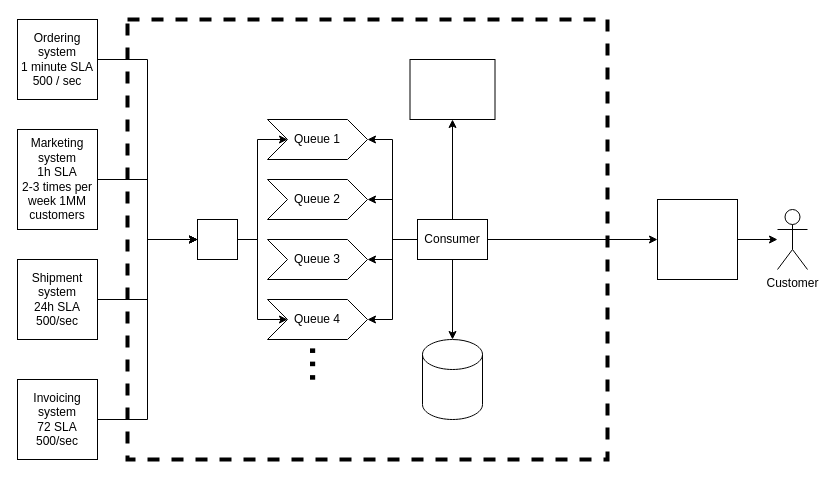
Some shapes in this 836 by 478 pixel diagram are drawn without their labels. The shapes that lost their labels are listed below. From the top down, each one's centre as x and y in pixels, then its label:
At point 452,89: "S3 Templates".
At point 217,239: "API".
At point 697,239: "SMTP Cluster (Limited capacity) 1000/second".
At point 452,379: "Cache".
